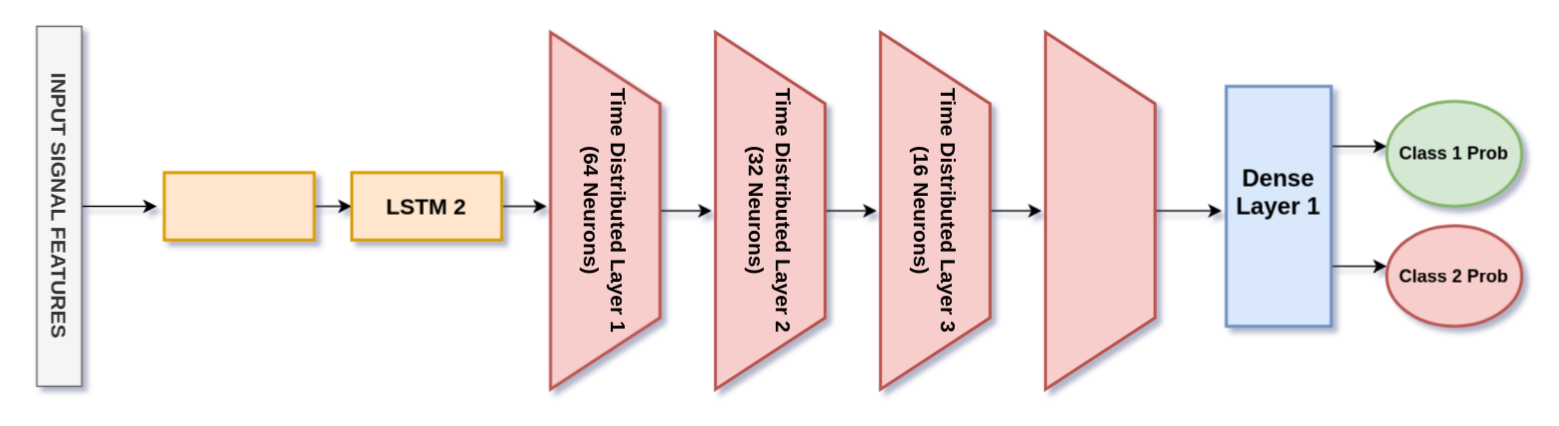
Image size: 1559x426. Some labels were removed from this diagram. Each missing label, with the centre of its shape:
"LSTM 1" belongs at (238,205).
"Time Distributed Layer 4 (8 Neurons)" belongs at (1099,210).
